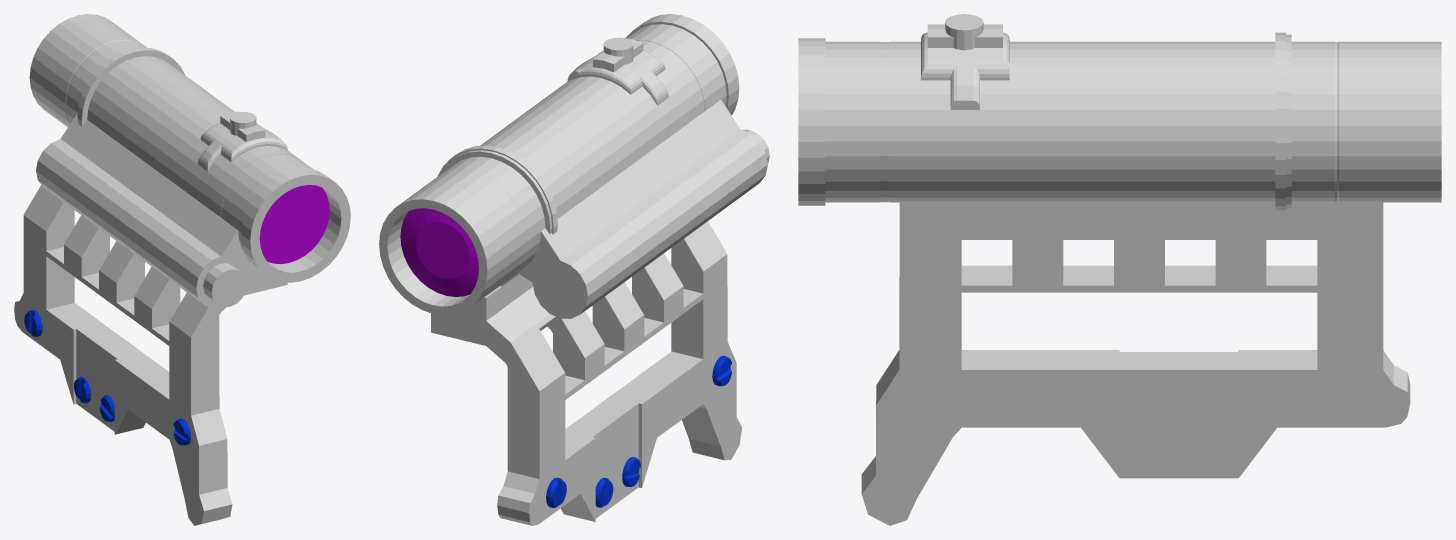
File: 4x_scope_ru_2.fbx
The picture shows the model from 3 angles, left to right: view 1: azimuth 30°, elevation 25°; view 2: azimuth 150°, elevation 25°; view 3: azimuth 270°, elevation 25°; orthographic projection. The views are drawn at different scales.
Parts seen in each view (by area): view 1: Cube; view 2: Cube; view 3: Cube.
Boxes of the visible parts, x1,y1,x2,y2 form: Cube: [14, 14, 350, 525]; Cube: [379, 14, 769, 525]; Cube: [798, 14, 1441, 525].
Bounding box in the file's own units: 3.36 × 9.01 × 8.29.
